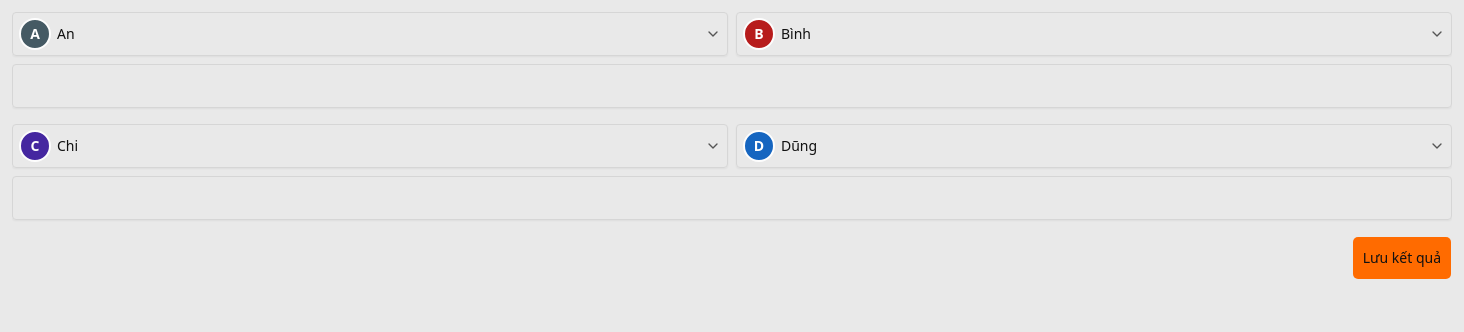
Scenario: MatchForm: người chơi › CONFLICT rồi lịch mới về: lựa chọn về lịch mới
Press Enter in the dropdown named "Cặp A, người 1", box x1=12 y1=12 x2=728 y2=56
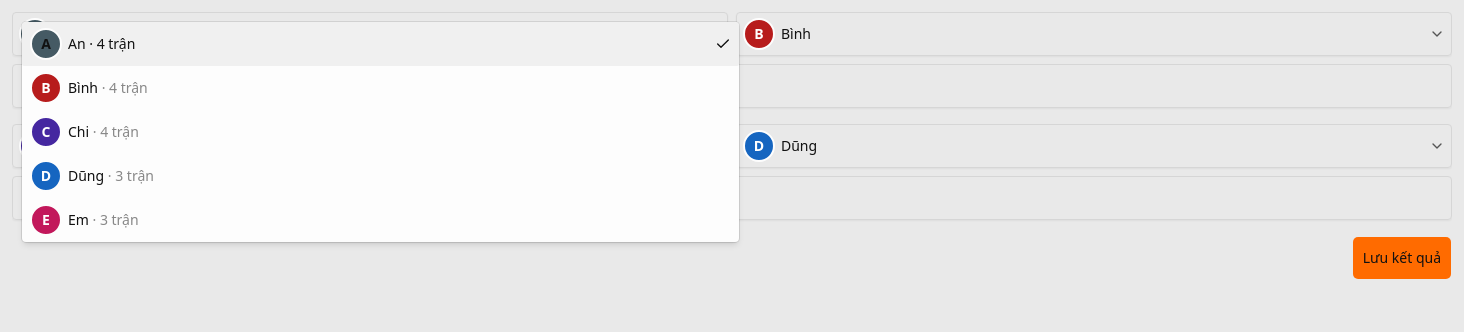
Click the option "E Em · 3 trận". click: (84, 220)
box: x1=30 y1=204 x2=139 y2=236
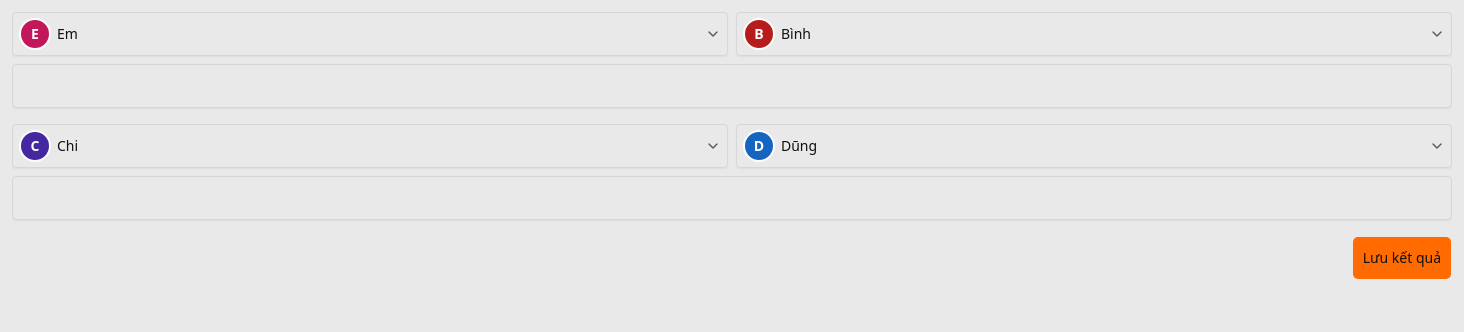
Click the button "Lưu kết quả". click: (1402, 258)
box: x1=1352 y1=236 x2=1452 y2=280
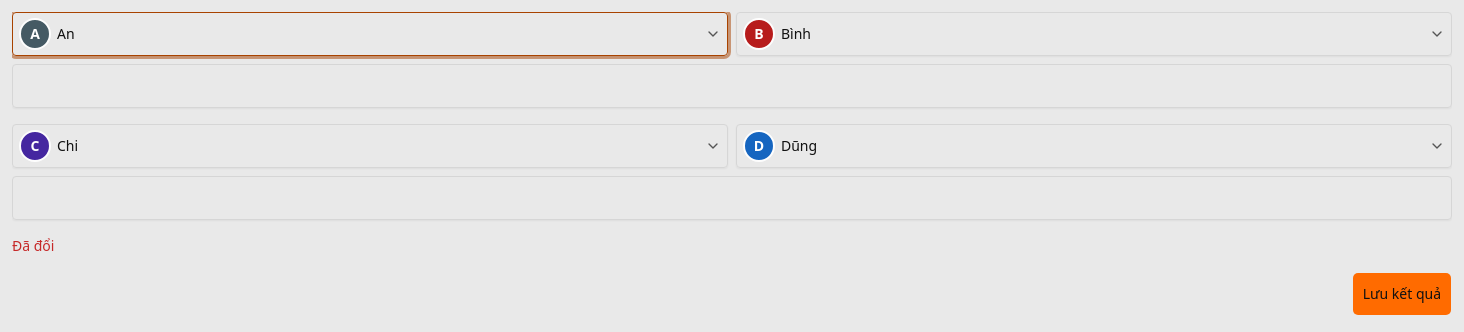
Expected: the message "Đã đổi" is shown, x1=12 y1=236 x2=54 y2=255
